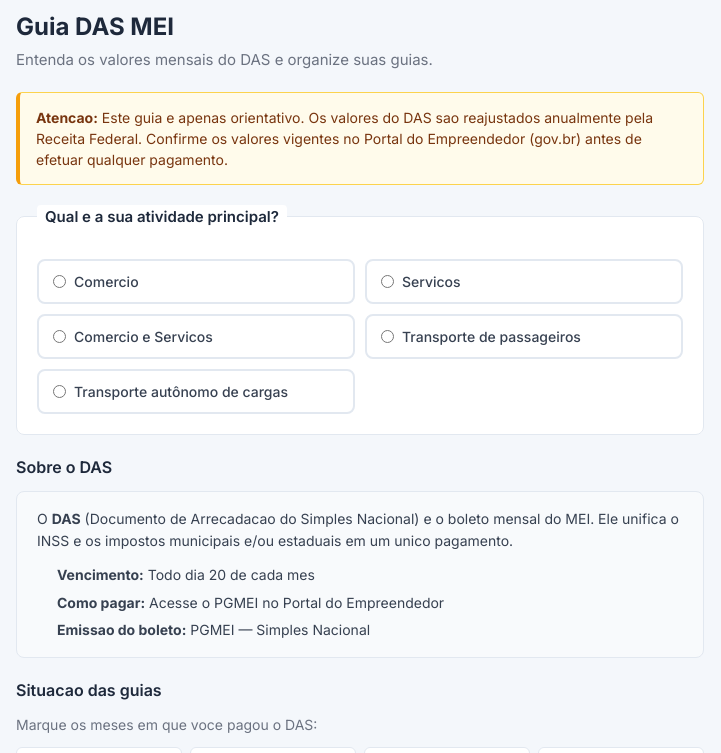
it: MeiDasGuideTool › selecionar "Comercio e Servicos" exibe INSS, ICMS e ISS
This screenshot has width=721, height=753.
Click the radio button labelled "Comercio e Servicos" at (60, 336), box [53,330,66,343]
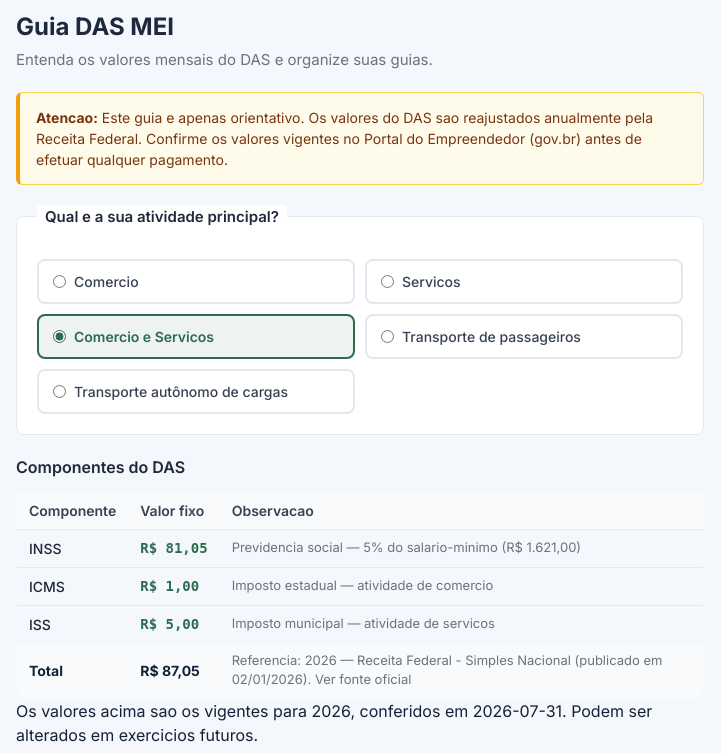
Check: the text "INSS" is shown, box [16,529,128,567]
Check: the text "ICMS" is shown, box [16,567,128,605]
Check: the text "ISS" is shown, box [16,605,128,643]
